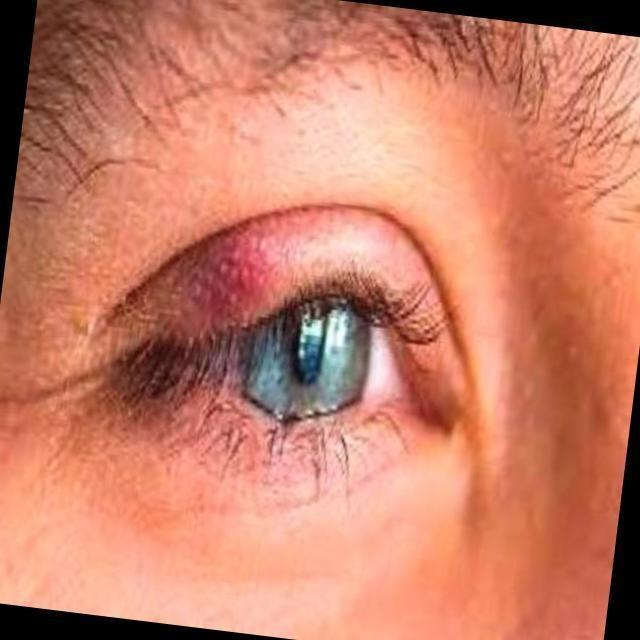Stye: (150, 164, 324, 378)
